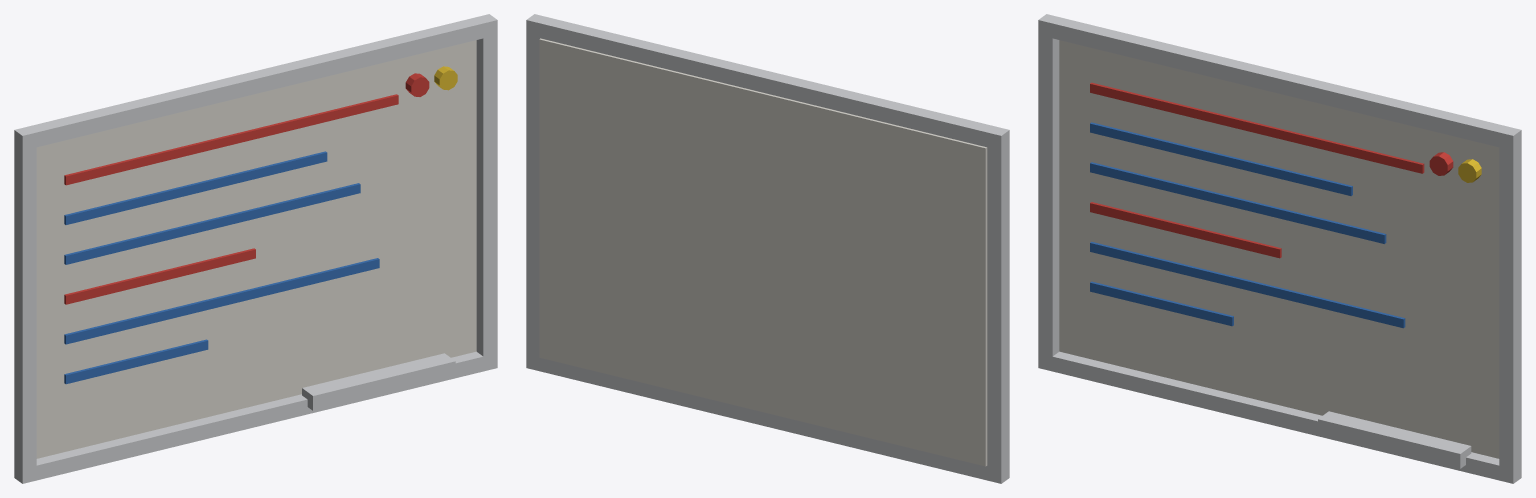
File: job_board.glb
3 views of the same model, side by side, from view 1: azimuth 30°, elevation 25°; view 2: azimuth 150°, elevation 25°; view 3: azimuth 330°, elevation 25° (orthographic).
Visible parts, largest first — view 1: job_board; view 2: job_board; view 3: job_board.
Part boxes in pixels (box(x1,y1,x2,y2)): job_board: box(14, 14, 497, 483); job_board: box(526, 14, 1009, 483); job_board: box(1038, 14, 1521, 483).
Bounding box in the file's own units: 1 × 0.7 × 0.055.
